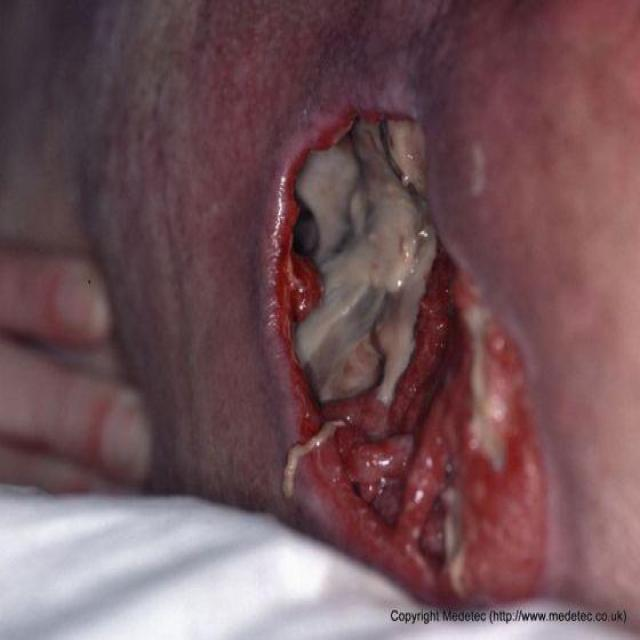stage-4: (278, 117, 545, 602)
